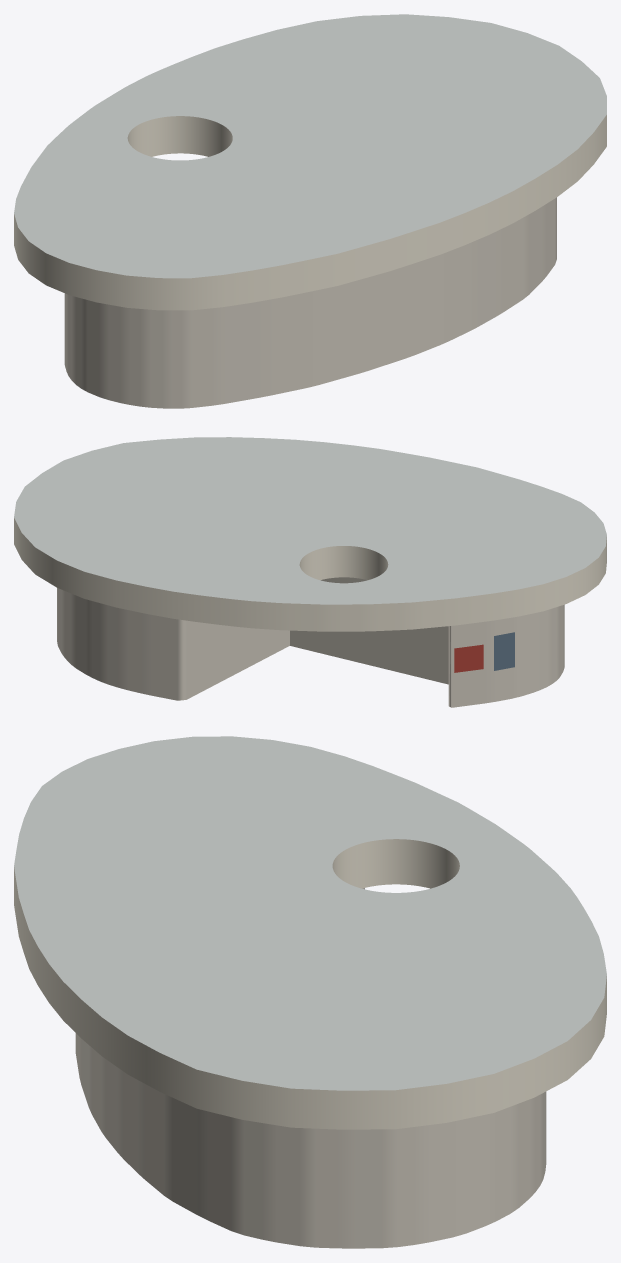
The model's file is nyc-bbp-comfort-station.glb.
3 views of the same model, one above another, from view 1: azimuth 30°, elevation 25°; view 2: azimuth 150°, elevation 25°; view 3: azimuth 270°, elevation 25° (orthographic). The views are drawn at different scales.
Parts seen in each view (by area): view 1: Pier 1 Pavilion; view 2: Pier 1 Pavilion; view 3: Pier 1 Pavilion.
Boxes of the visible parts, <box> form: Pier 1 Pavilion: <box>14,14,606,408</box>; Pier 1 Pavilion: <box>14,437,606,707</box>; Pier 1 Pavilion: <box>14,736,606,1248</box>.
Bounding box in the file's own units: 30.2 × 7.3 × 21.35.
